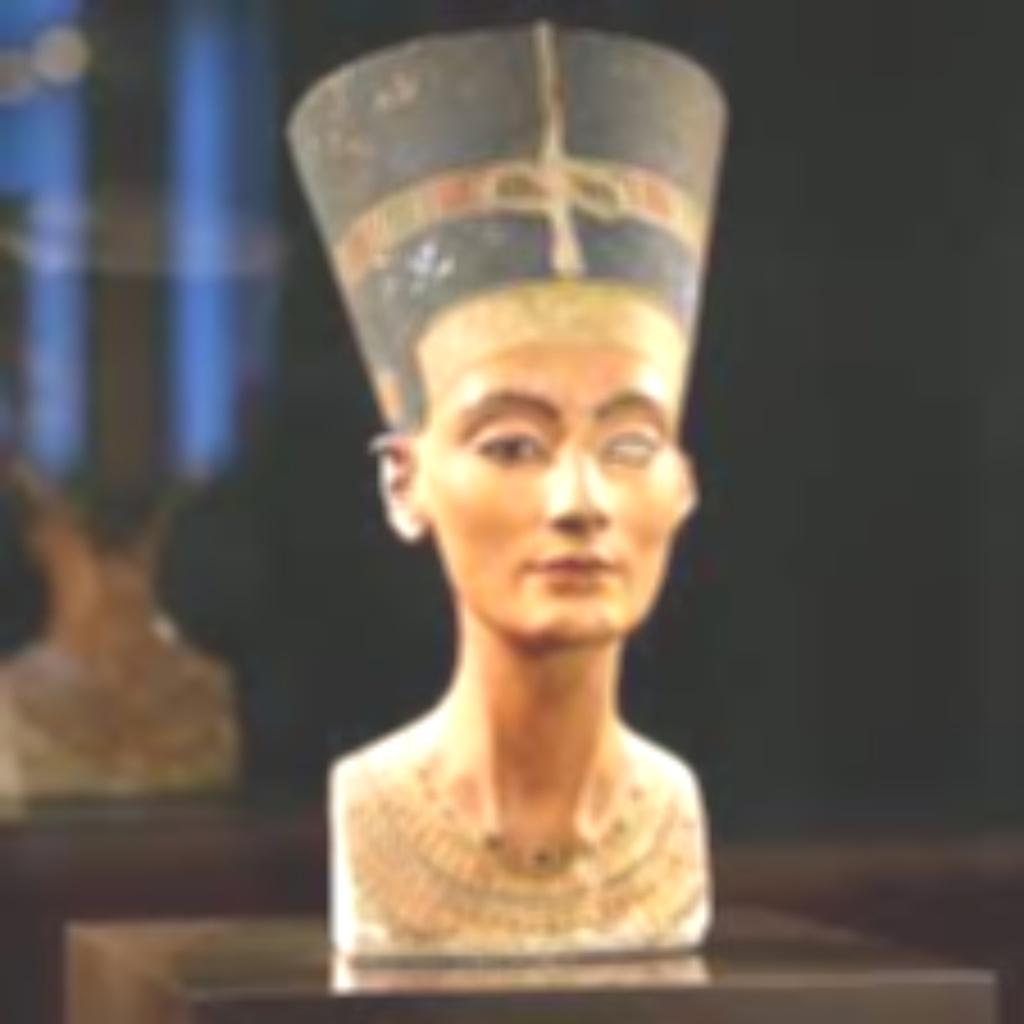Nefertiti: (282, 18, 733, 965)
